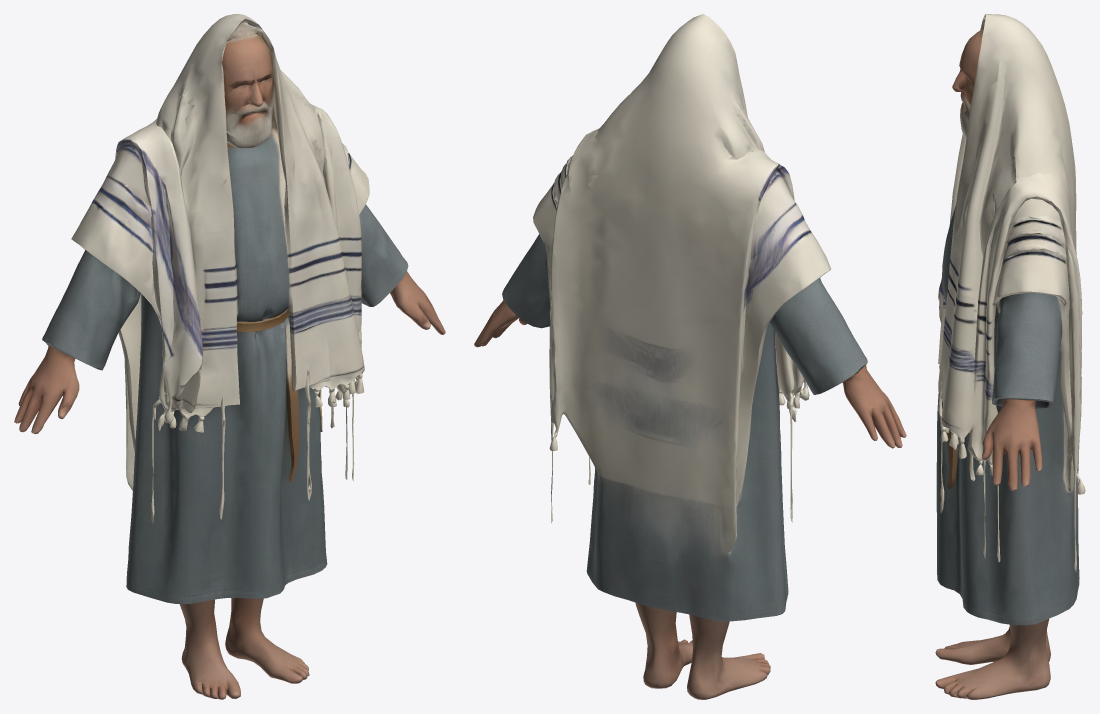
Rendered from israelite_talith_4.glb.
The picture shows the model from 3 angles, left to right: view 1: azimuth 30°, elevation 25°; view 2: azimuth 150°, elevation 25°; view 3: azimuth 270°, elevation 25°; orthographic projection.
Visible parts, largest first — view 1: Mesh; view 2: Mesh; view 3: Mesh.
Part boxes in pixels (box(x1,y1,x2,y2)): Mesh: box(14, 14, 445, 699); Mesh: box(474, 14, 906, 699); Mesh: box(935, 14, 1085, 699).
Size of the model in its own units: 1.27 by 1.89 by 0.3896.
Materials: 1 (1 with a texture image).
